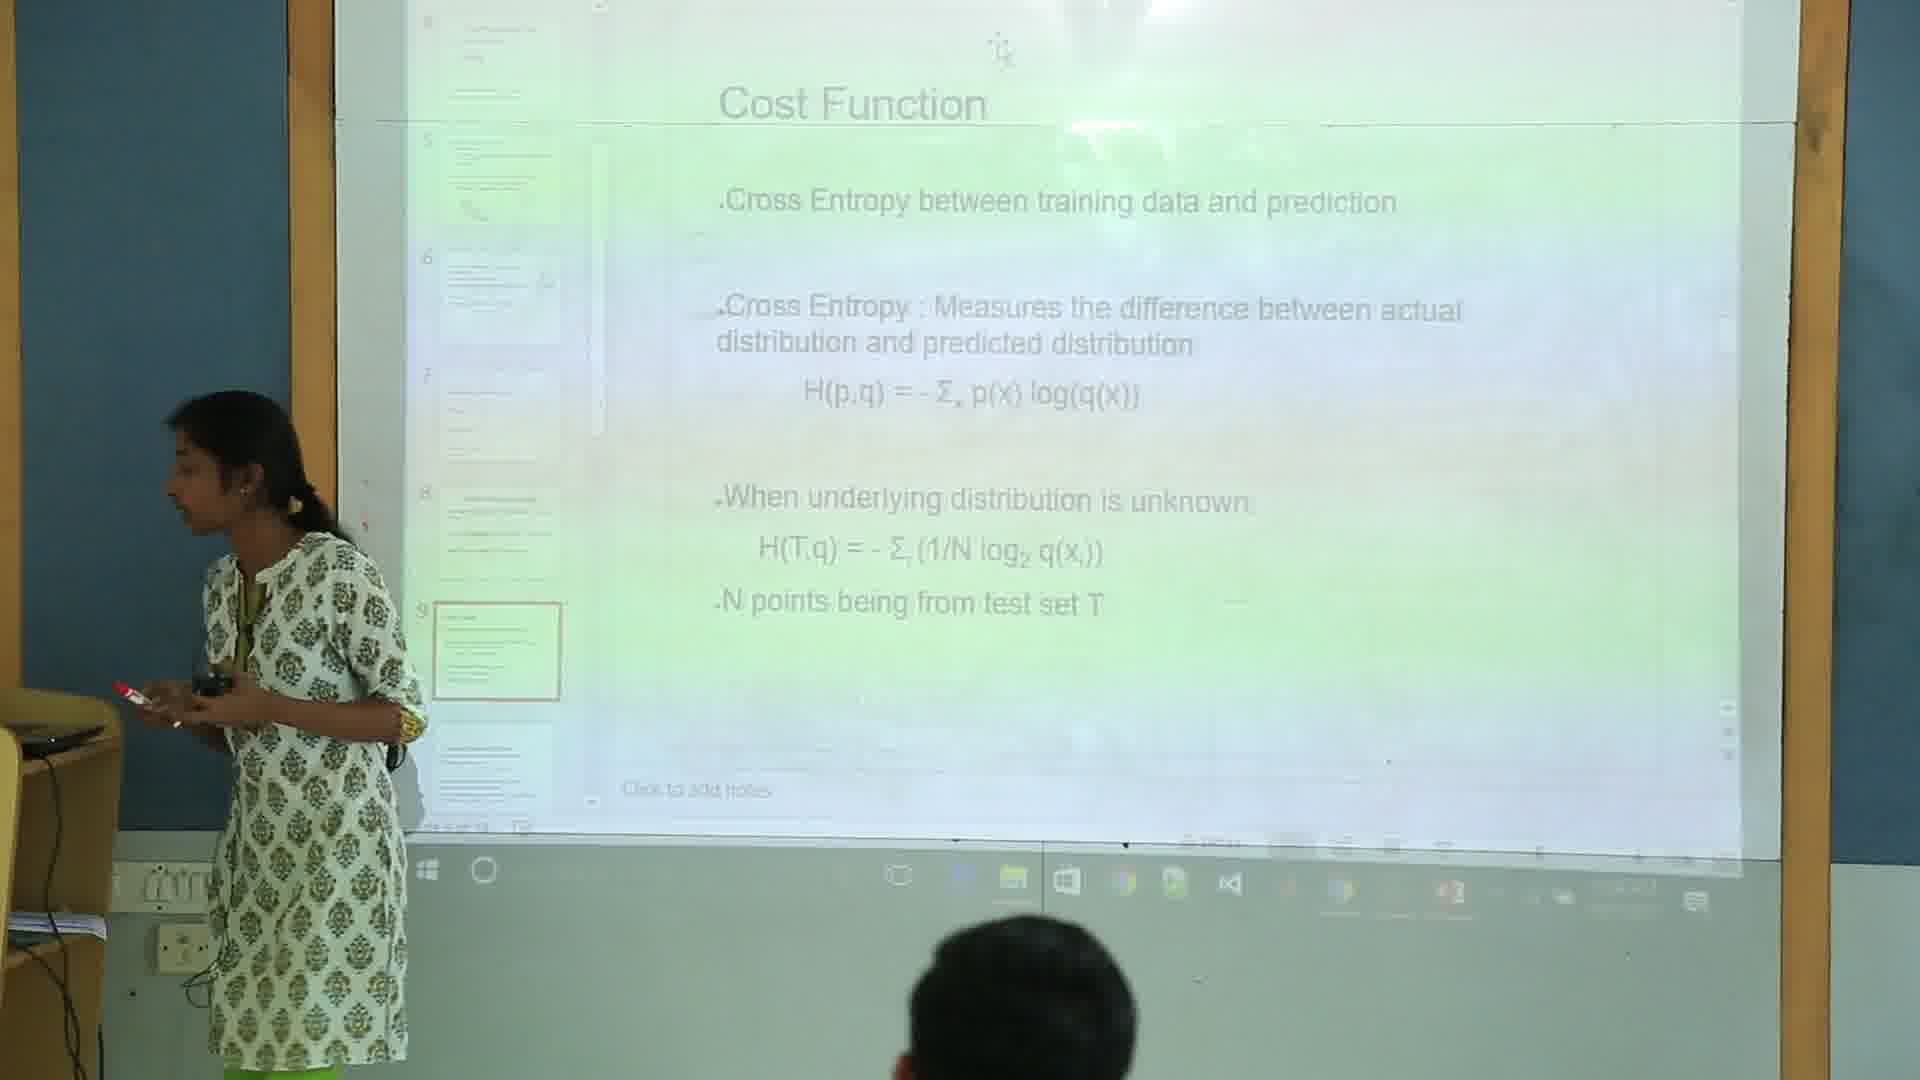eq: (787, 367, 1153, 421), (745, 525, 1112, 578)
